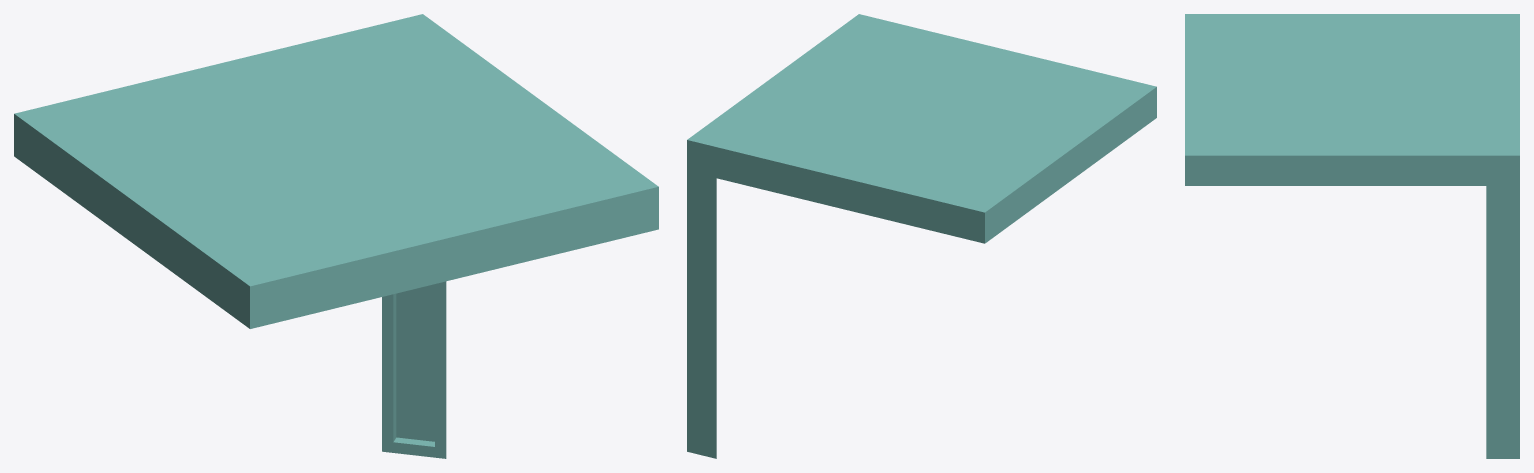
The model's file is EspacioInicialEsquinaAperturaInteriorAltoNS.gltf.
3 views of the same model, side by side, from view 1: azimuth 30°, elevation 25°; view 2: azimuth 150°, elevation 25°; view 3: azimuth 270°, elevation 25° (orthographic). The views are drawn at different scales.
Visible parts, largest first — view 1: Objeto Poligonal.4; view 2: Objeto Poligonal.4; view 3: Objeto Poligonal.4.
Part boxes in pixels (x1,y1,x2,y2): Objeto Poligonal.4: (14,14,658,458); Objeto Poligonal.4: (687,14,1156,458); Objeto Poligonal.4: (1185,14,1519,458).
Size of the model in its own units: 2 by 2 by 2.
